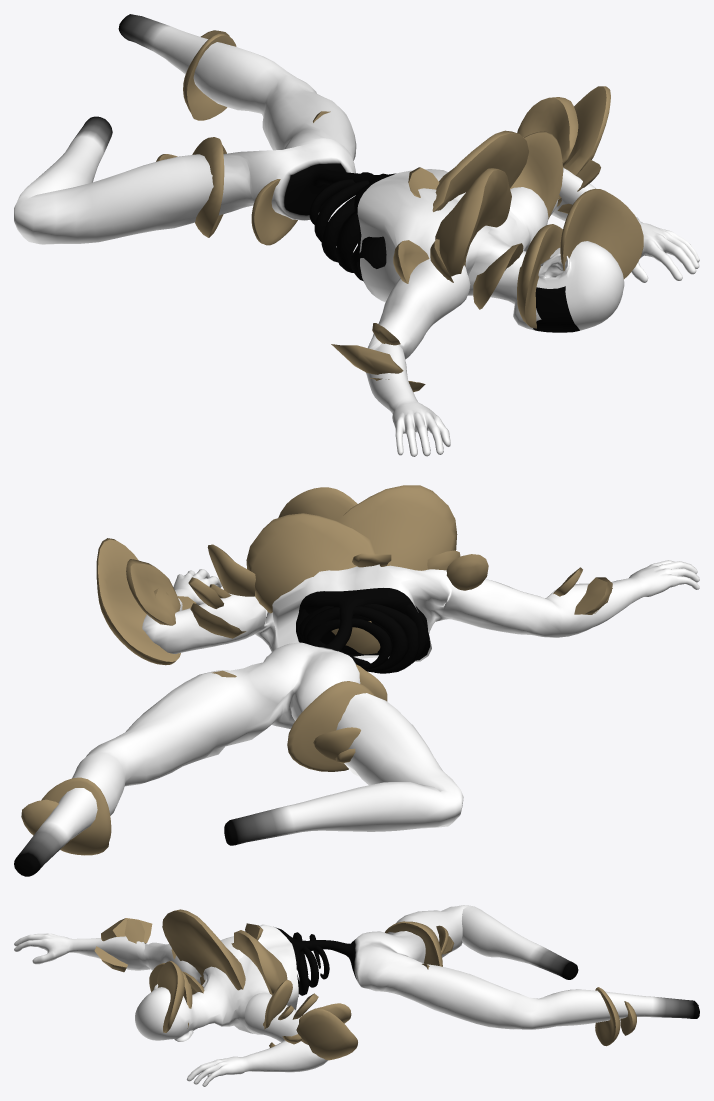
File: Model_DeadEnnemy03.fbx
3 renders of one model, top to bottom at view 1: azimuth 30°, elevation 25°; view 2: azimuth 150°, elevation 25°; view 3: azimuth 270°, elevation 25°, orthographic. The views are drawn at different scales.
Visible parts, largest first — view 1: BodyDead02, MushDead02; view 2: BodyDead02, MushDead02; view 3: BodyDead02, MushDead02.
Part boxes in pixels (bbox=[...]): BodyDead02: bbox=[14, 14, 699, 456]; MushDead02: bbox=[156, 30, 643, 392]; BodyDead02: bbox=[14, 560, 699, 876]; MushDead02: bbox=[21, 485, 612, 855]; BodyDead02: bbox=[14, 905, 699, 1086]; MushDead02: bbox=[94, 909, 636, 1060].
Size of the model in its own units: 188 by 64.62 by 337.
